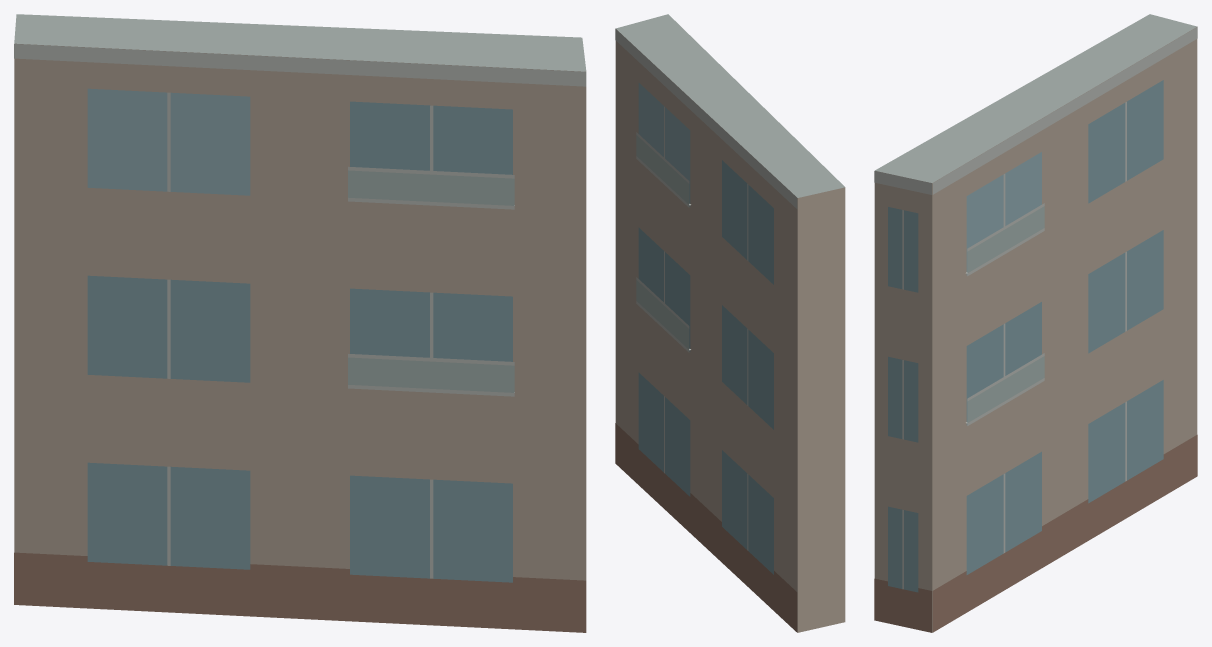
File: survey-upis-32582359.glb
The picture shows the model from 3 angles, left to right: view 1: azimuth 30°, elevation 25°; view 2: azimuth 150°, elevation 25°; view 3: azimuth 270°, elevation 25°; orthographic projection. The views are drawn at different scales.
Visible parts, largest first — view 1: survey-upis-32582359.tmp; view 2: survey-upis-32582359.tmp; view 3: survey-upis-32582359.tmp.
Part boxes in pixels (x1,y1,x2,y2): survey-upis-32582359.tmp: (14,14,586,632); survey-upis-32582359.tmp: (615,14,845,632); survey-upis-32582359.tmp: (874,14,1197,632).
Bounding box in the file's own units: 7.39 × 9.15 × 5.97.
